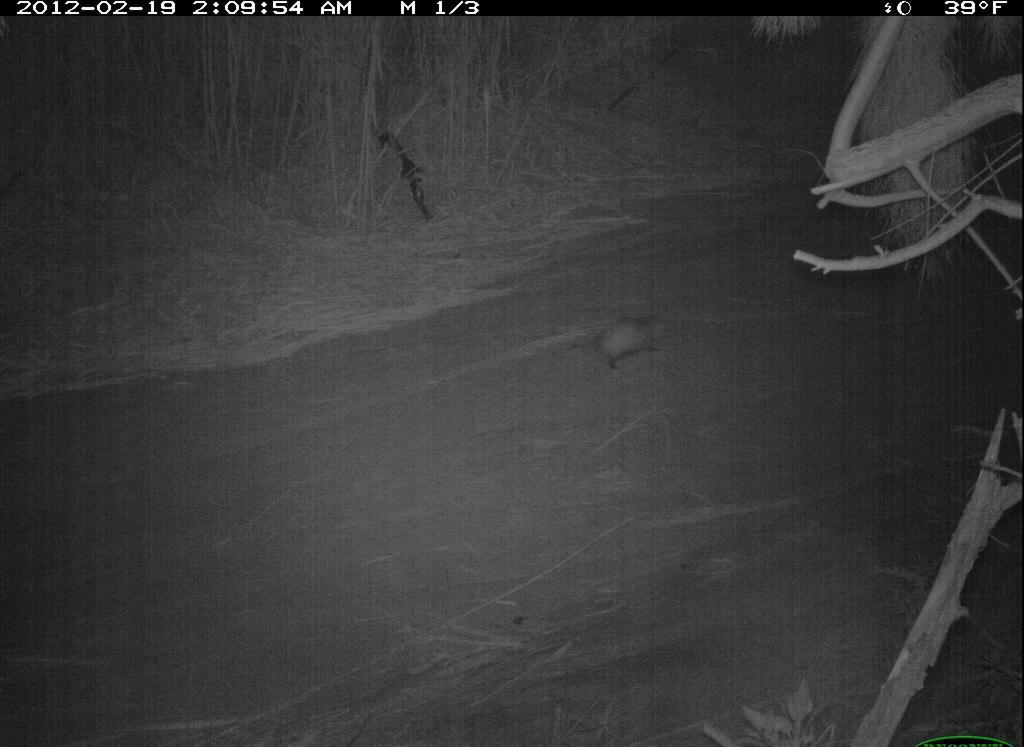opossum: (559, 297, 688, 386)
